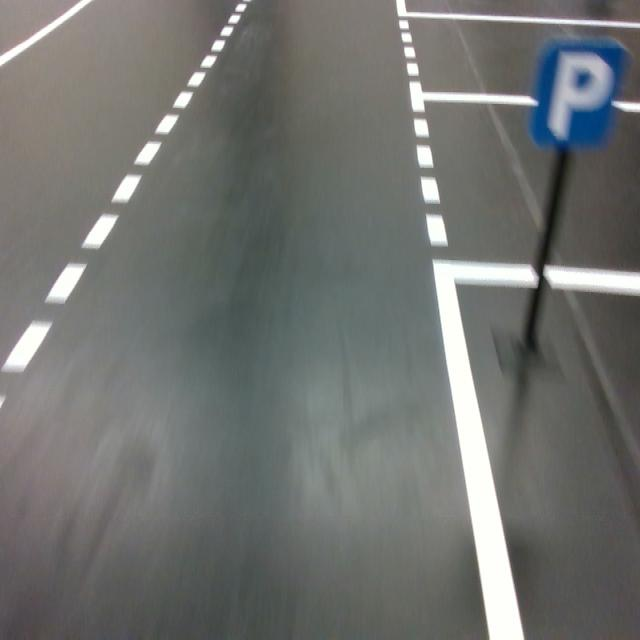parking-sign: (533, 42, 628, 147)
